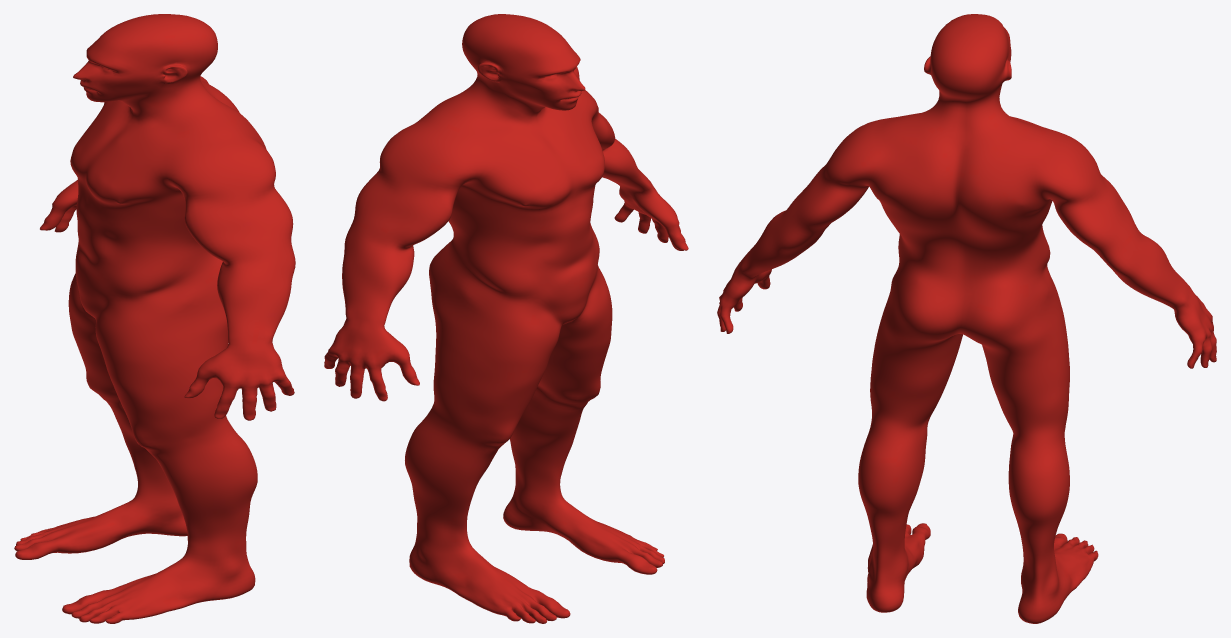
The model's file is man_1.fbx.
3 renders of one model, left to right at view 1: azimuth 30°, elevation 25°; view 2: azimuth 150°, elevation 25°; view 3: azimuth 270°, elevation 25°, orthographic. The views are drawn at different scales.
Visible parts, largest first — view 1: FinalBaseMesh; view 2: FinalBaseMesh; view 3: FinalBaseMesh.
Part boxes in pixels (<box>): FinalBaseMesh: <box>14,14,295,623</box>; FinalBaseMesh: <box>324,14,688,623</box>; FinalBaseMesh: <box>717,14,1216,623</box>.
Size of the model in its own units: 66.75 by 160 by 129.
